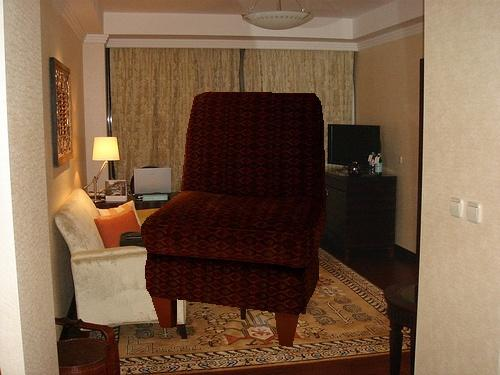tampered: (142, 92, 326, 347)
